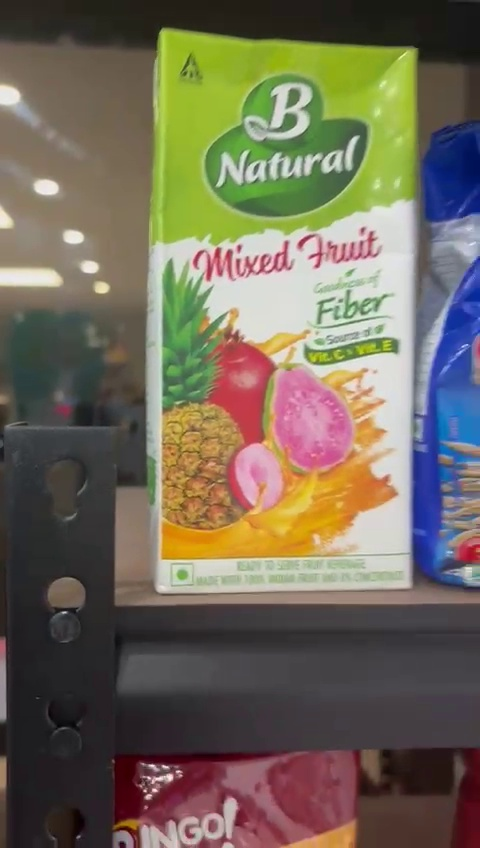Mixed Fruit: (153, 23, 416, 589)
